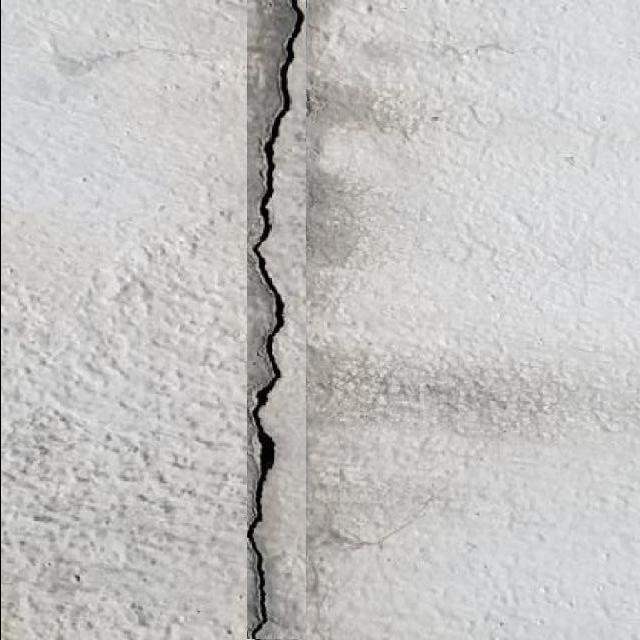Crack: (243, 0, 305, 639)
